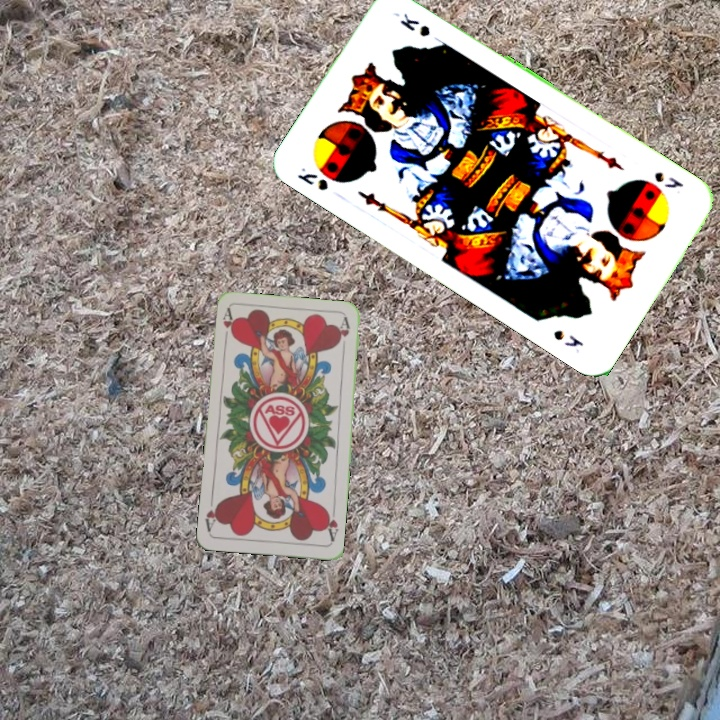HA: (321, 504, 341, 544), (219, 306, 237, 346)
SK: (293, 163, 331, 194), (650, 167, 686, 191)
